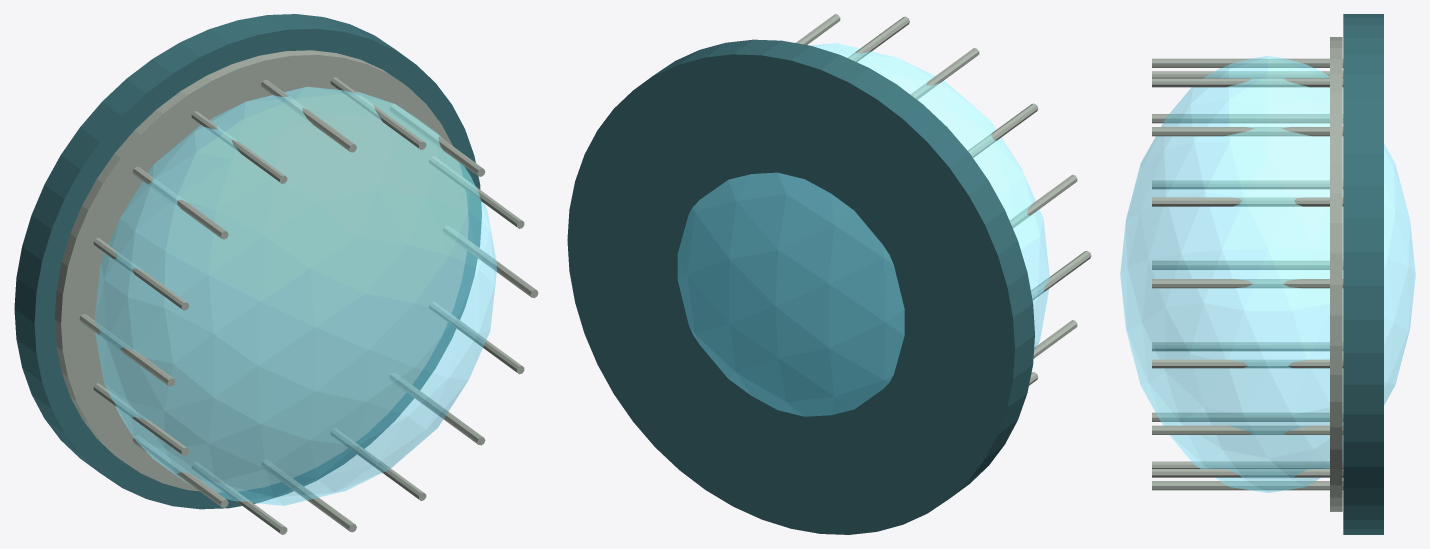
Rendered from 01_Citadel_Crystal_Dome.glb.
3 views of the same model, side by side, from view 1: azimuth 30°, elevation 25°; view 2: azimuth 150°, elevation 25°; view 3: azimuth 270°, elevation 25° (orthographic).
Visible parts, largest first — view 1: 01_Citadel_Crystal_Dome_01, 01_Citadel_Crystal_Dome_02, 01_Citadel_Crystal_Dome_00, 01_Citadel_Crystal_Dome_07, 01_Citadel_Crystal_Dome_09, 01_Citadel_Crystal_Dome_11, 01_Citadel_Crystal_Dome_13, 01_Citadel_Crystal_Dome_05, 01_Citadel_Crystal_Dome_15, 01_Citadel_Crystal_Dome_03, 01_Citadel_Crystal_Dome_17, 01_Citadel_Crystal_Dome_06 (+7 smaller); view 2: 01_Citadel_Crystal_Dome_00, 01_Citadel_Crystal_Dome_02, 01_Citadel_Crystal_Dome_09, 01_Citadel_Crystal_Dome_10, 01_Citadel_Crystal_Dome_08, 01_Citadel_Crystal_Dome_11, 01_Citadel_Crystal_Dome_07; view 3: 01_Citadel_Crystal_Dome_02, 01_Citadel_Crystal_Dome_00, 01_Citadel_Crystal_Dome_01, 01_Citadel_Crystal_Dome_04, 01_Citadel_Crystal_Dome_05, 01_Citadel_Crystal_Dome_06, 01_Citadel_Crystal_Dome_07, 01_Citadel_Crystal_Dome_08, 01_Citadel_Crystal_Dome_10, 01_Citadel_Crystal_Dome_12, 01_Citadel_Crystal_Dome_14, 01_Citadel_Crystal_Dome_16 (+7 smaller).
Boxes of the visible parts, x1,y1,x2,y2 form: 01_Citadel_Crystal_Dome_01: (54,50,468,492); 01_Citadel_Crystal_Dome_02: (94,86,496,505); 01_Citadel_Crystal_Dome_00: (14,14,481,509); 01_Citadel_Crystal_Dome_07: (261,80,356,152); 01_Citadel_Crystal_Dome_09: (132,166,228,239); 01_Citadel_Crystal_Dome_11: (79,314,175,386); 01_Citadel_Crystal_Dome_13: (132,435,228,507); 01_Citadel_Crystal_Dome_05: (389,104,485,176); 01_Citadel_Crystal_Dome_15: (261,459,356,532); 01_Citadel_Crystal_Dome_03: (442,225,538,298); 01_Citadel_Crystal_Dome_17: (389,372,485,445); 01_Citadel_Crystal_Dome_06: (330,77,426,149); 01_Citadel_Crystal_Dome_00: (567,39,1034,534); 01_Citadel_Crystal_Dome_02: (677,43,1049,416); 01_Citadel_Crystal_Dome_09: (968,103,1038,157); 01_Citadel_Crystal_Dome_10: (1010,174,1077,228); 01_Citadel_Crystal_Dome_08: (910,48,979,99); 01_Citadel_Crystal_Dome_11: (1031,250,1091,299); 01_Citadel_Crystal_Dome_07: (848,16,909,61); 01_Citadel_Crystal_Dome_02: (1120,56,1415,492); 01_Citadel_Crystal_Dome_00: (1343,14,1383,534); 01_Citadel_Crystal_Dome_01: (1330,37,1342,511); 01_Citadel_Crystal_Dome_04: (1152,279,1343,288); 01_Citadel_Crystal_Dome_05: (1152,197,1343,206); 01_Citadel_Crystal_Dome_06: (1152,127,1343,136); 01_Citadel_Crystal_Dome_07: (1152,78,1343,87); 01_Citadel_Crystal_Dome_08: (1152,58,1343,67); 01_Citadel_Crystal_Dome_10: (1152,114,1343,123); 01_Citadel_Crystal_Dome_12: (1152,260,1343,269); 01_Citadel_Crystal_Dome_14: (1152,412,1343,421); 01_Citadel_Crystal_Dome_16: (1152,481,1343,490).
Bounding box in the file's own units: 9 × 9 × 5.1.
